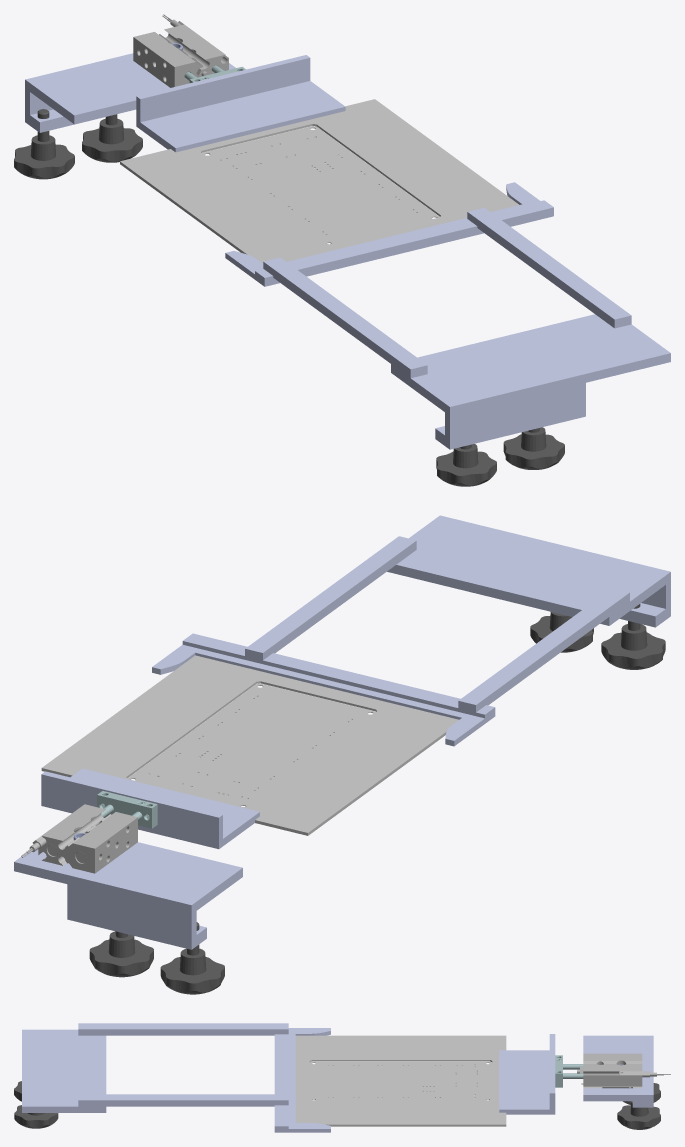
The model's file is mesa-general.dae.
3 renders of one model, top to bottom at view 1: azimuth 30°, elevation 25°; view 2: azimuth 150°, elevation 25°; view 3: azimuth 270°, elevation 25°, orthographic. The views are drawn at different scales.
Parts seen in each view (by area): view 1: node6, node0, node2, node5, node1, node4, node3, node11, node10, node9, node7, node8; view 2: node6, node0, node5, node1, node2, node11, node3, node4, node10, node8, node9, node12 (+1 smaller); view 3: node6, node0, node2, node5, node3, node4, node1, node11, node9, node7, node12, node14.
Boxes of the visible parts, x1,y1,x2,y2 form: node6: (120, 99, 518, 263); node0: (391, 314, 670, 449); node2: (136, 55, 345, 152); node5: (25, 53, 235, 132); node1: (225, 182, 553, 286); node4: (263, 257, 427, 378); node3: (467, 207, 631, 328); node11: (133, 24, 228, 87); node10: (14, 109, 74, 179); node9: (82, 114, 142, 162); node7: (503, 427, 564, 469); node8: (436, 444, 496, 486); node6: (41, 655, 458, 835); node0: (387, 515, 670, 627); node5: (14, 842, 242, 949); node1: (152, 633, 495, 746); node2: (41, 768, 259, 849); node11: (38, 804, 137, 873); node3: (245, 536, 416, 662); node4: (458, 588, 629, 712); node10: (160, 922, 224, 994); node8: (601, 604, 665, 669); node9: (89, 931, 153, 977); node12: (97, 791, 157, 828); node6: (295, 1035, 506, 1126); node0: (22, 1029, 106, 1112); node2: (499, 1034, 555, 1114); node5: (583, 1035, 653, 1107); node3: (78, 1094, 288, 1106); node4: (78, 1023, 288, 1035); node1: (274, 1028, 330, 1132); node11: (577, 1053, 642, 1088); node9: (617, 1101, 660, 1129); node7: (14, 1105, 58, 1128); node12: (555, 1055, 583, 1087); node14: (619, 1071, 670, 1077).
Bounding box in the file's own units: 0.1702 × 0.4682 × 0.0642.
